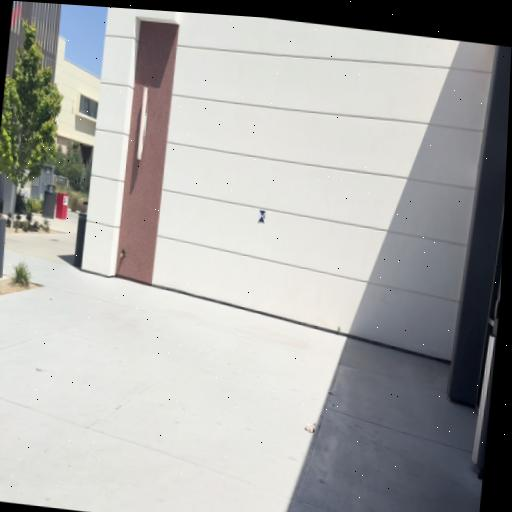target0: (258, 209, 266, 224)
